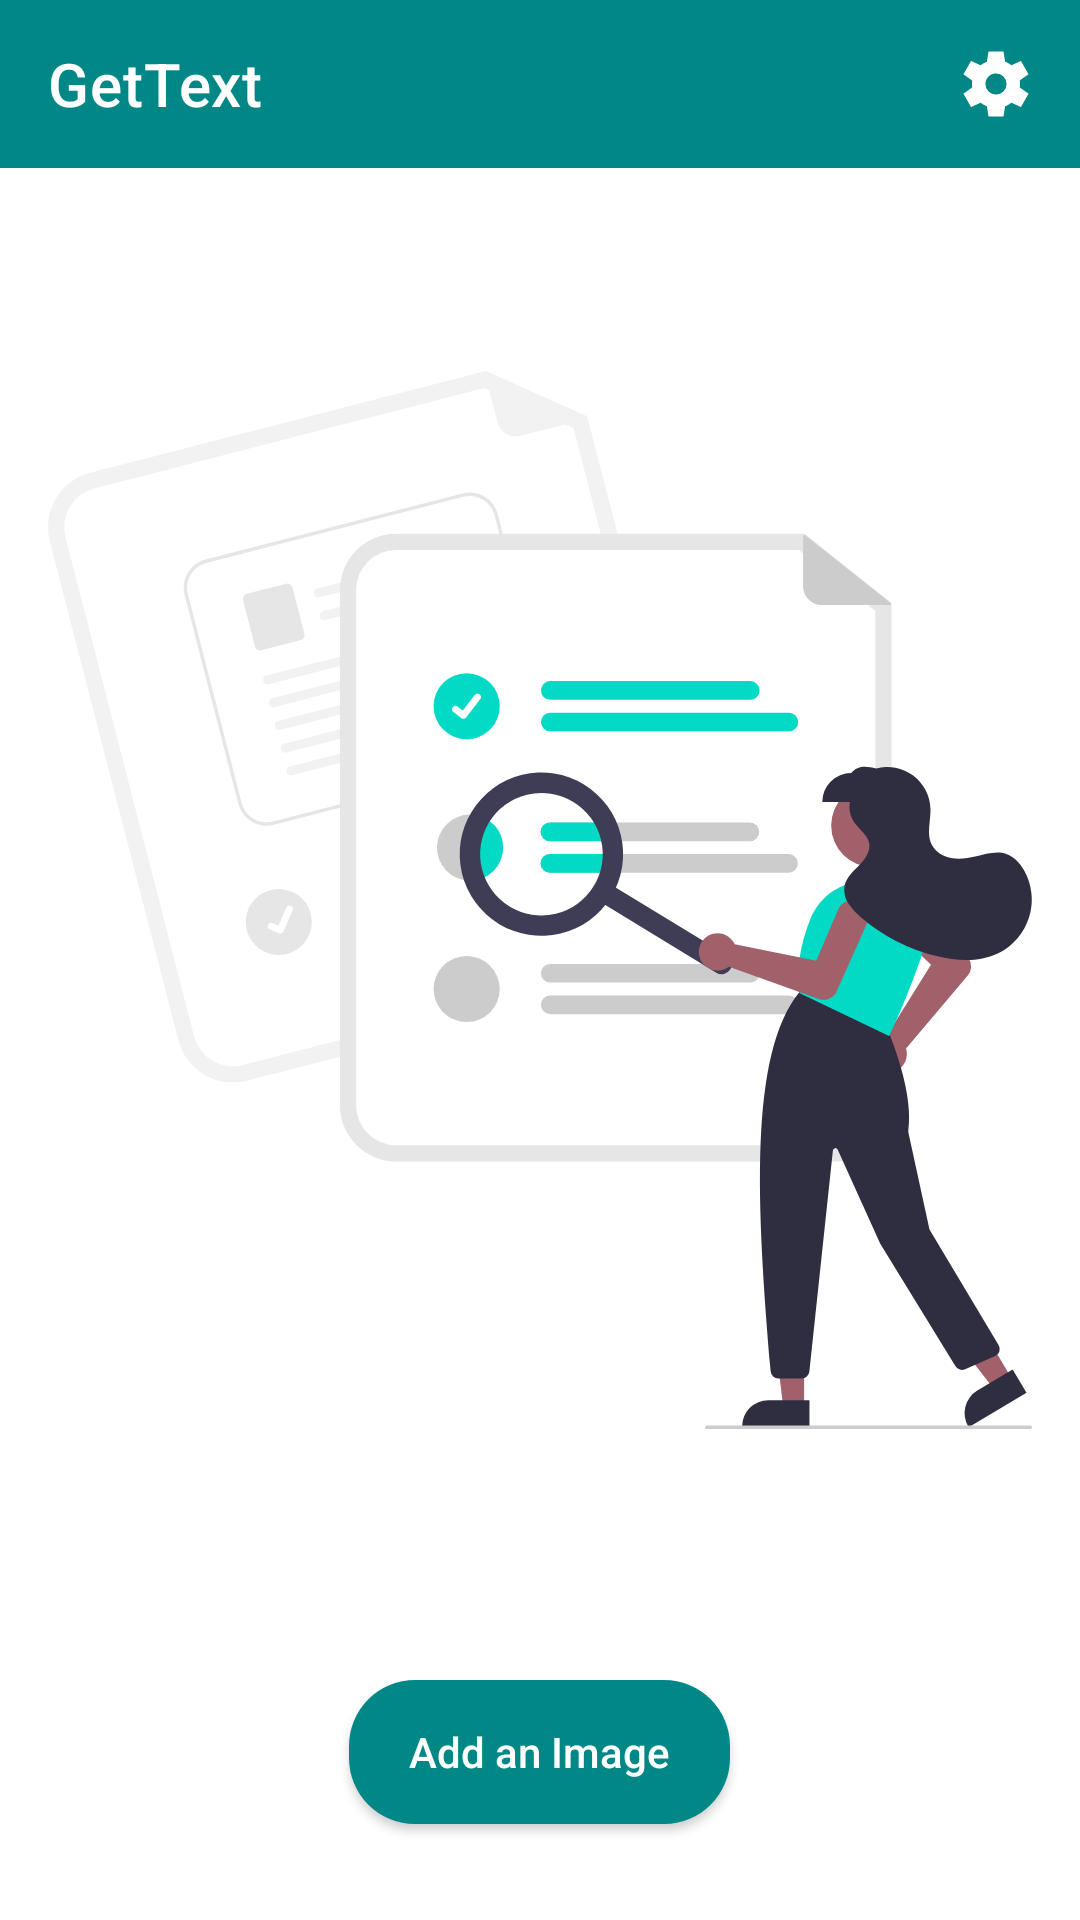

Where icons sit on this 1080×1920 app screen, as bbox=(x1, y1, x2, y2):
settings: bbox=(963, 51, 1029, 117)
